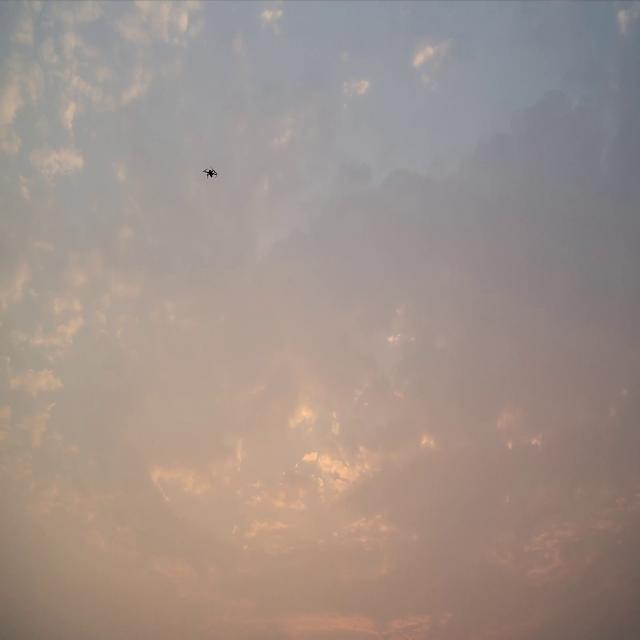UAV: (202, 166, 219, 178)
